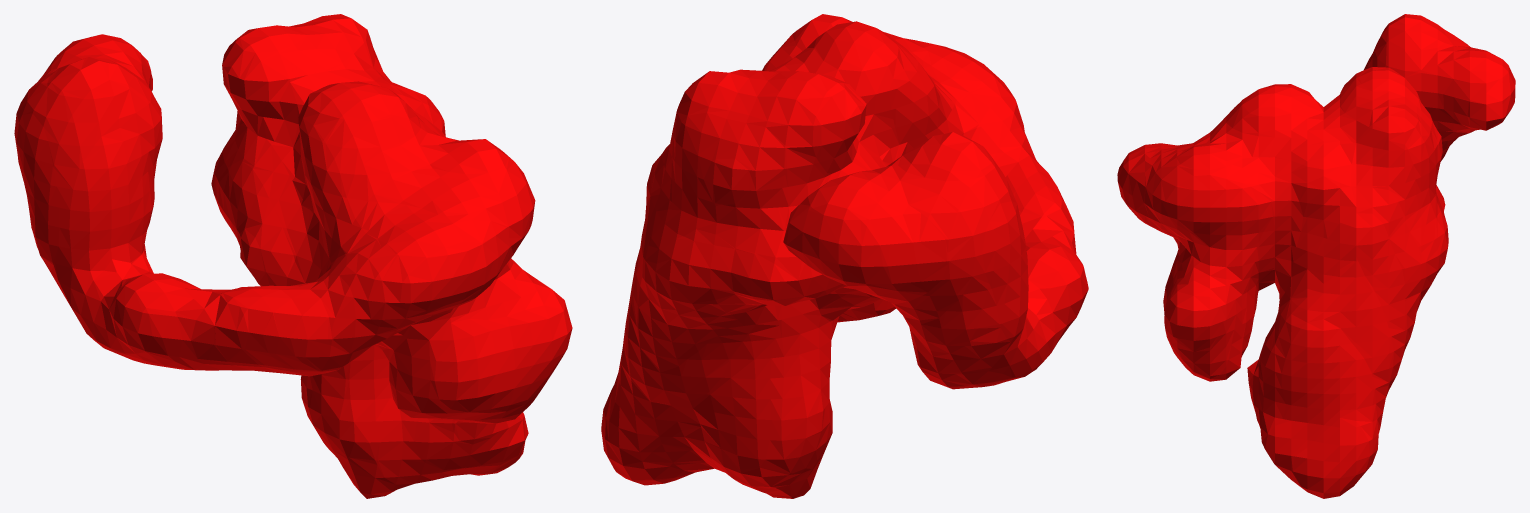
Rendered from yceD_coarse.dae.
3 renders of one model, left to right at view 1: azimuth 30°, elevation 25°; view 2: azimuth 150°, elevation 25°; view 3: azimuth 270°, elevation 25°, orthographic. The views are drawn at different scales.
Parts seen in each view (by area): view 1: yceD; view 2: yceD; view 3: yceD.
Boxes of the visible parts, x1,y1,x2,y2 form: yceD: [14, 14, 572, 498]; yceD: [601, 14, 1088, 498]; yceD: [1117, 14, 1515, 498].
Bounding box in the file's own units: 53.96 × 53.84 × 55.09.
